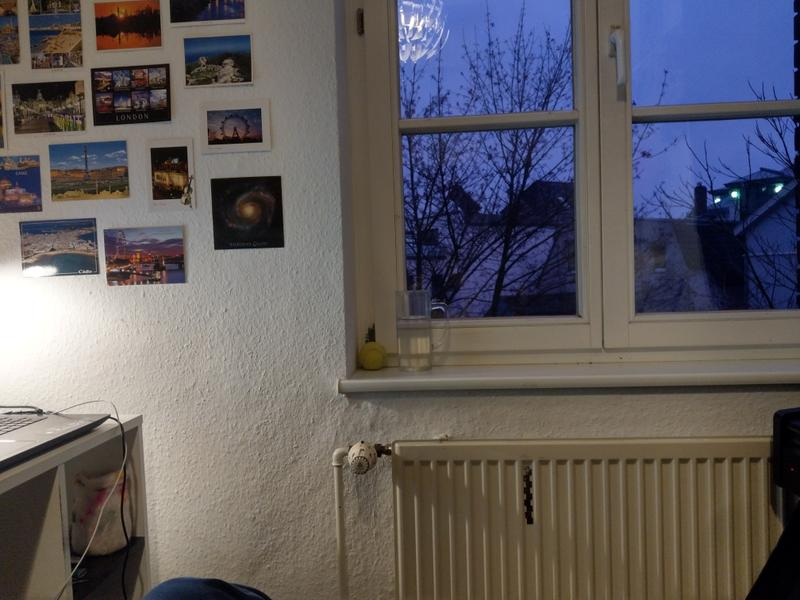Tennisball: (357, 339, 387, 373)
